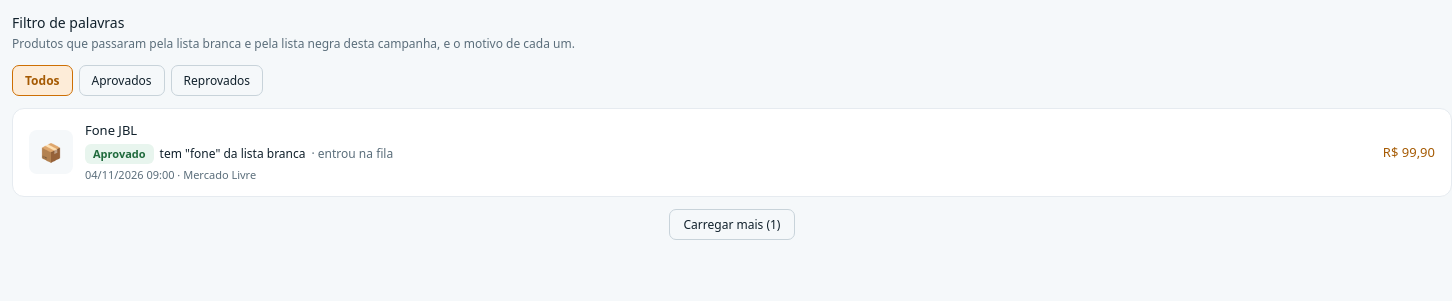
Test: FiltroPalavrasLog › carregar mais pede a próxima página e junta as linhas
Click the button "Carregar mais (1)".
click(732, 224)  # box [668,208,796,240]
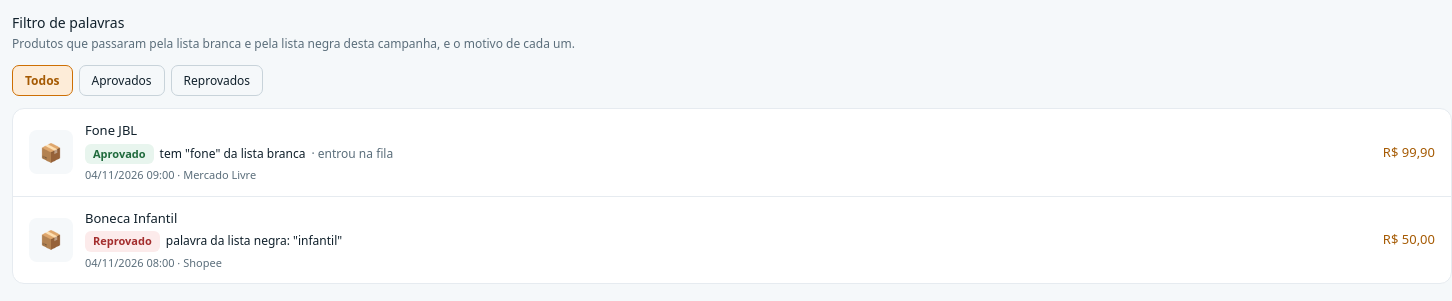
Check: the text "Fone JBL" is shown, box [85,121,137,139]
Check: the text "Boneca Infantil" is shown, box [85,208,177,226]
